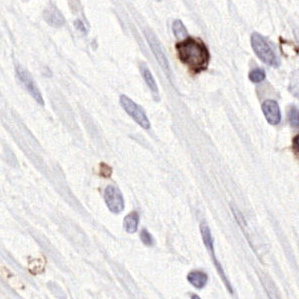Lymphocyte: (174, 35, 211, 73)
